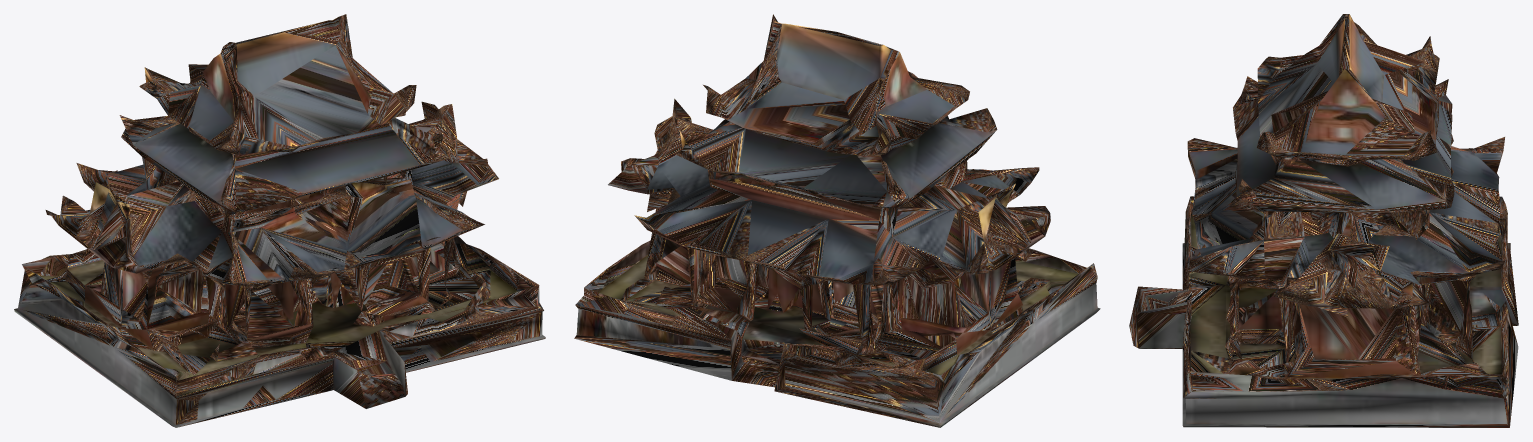
The model's file is bq_alchemy_hall.far.glb.
The picture shows the model from 3 angles, left to right: view 1: azimuth 30°, elevation 25°; view 2: azimuth 150°, elevation 25°; view 3: azimuth 270°, elevation 25°; orthographic projection. The views are drawn at different scales.
Visible parts, largest first — view 1: Mesh_0; view 2: Mesh_0; view 3: Mesh_0.
Boxes of the visible parts, <box> form: Mesh_0: <box>14,14,545,427</box>; Mesh_0: <box>574,14,1100,427</box>; Mesh_0: <box>1129,14,1518,427</box>.
Bounding box in the file's own units: 1.89 × 1.39 × 1.64.
1 material, 1 textured.
